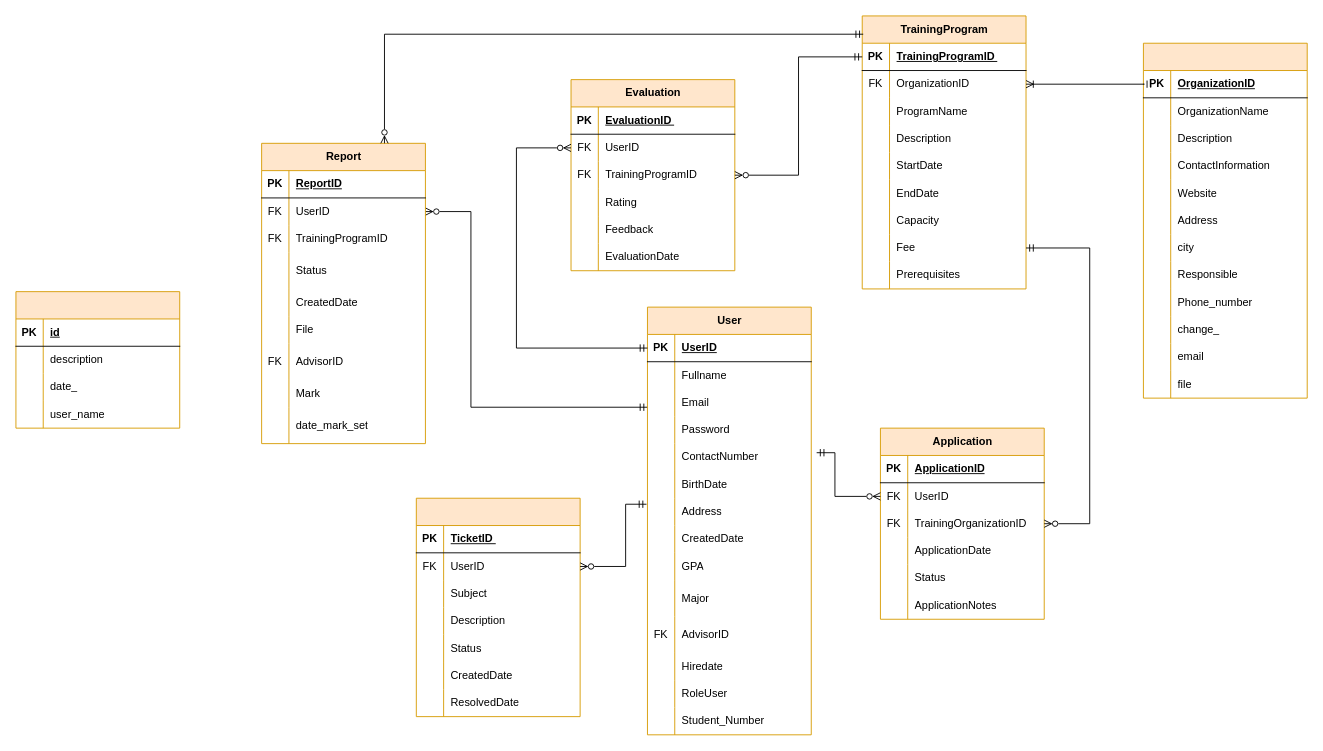
Image size: 1323x751. Some labels were removed from this diagram. Each missing label, with the box of its shape:
Notification: (15, 291, 180, 428)
TechnicalSupport: (415, 497, 580, 717)
TrainingOrganization: (1143, 42, 1307, 398)
